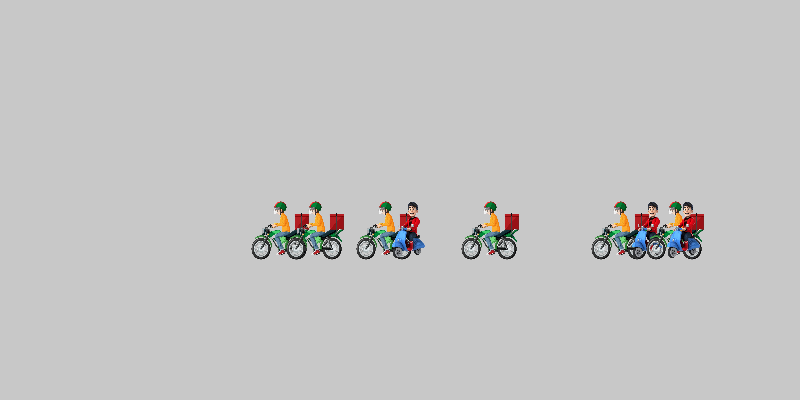helmet: (250, 200, 310, 260), (285, 200, 345, 260), (355, 200, 415, 260), (460, 200, 520, 260), (590, 200, 650, 260), (645, 200, 705, 260)
no_helmet: (380, 200, 440, 260), (620, 200, 680, 260), (655, 200, 715, 260)
